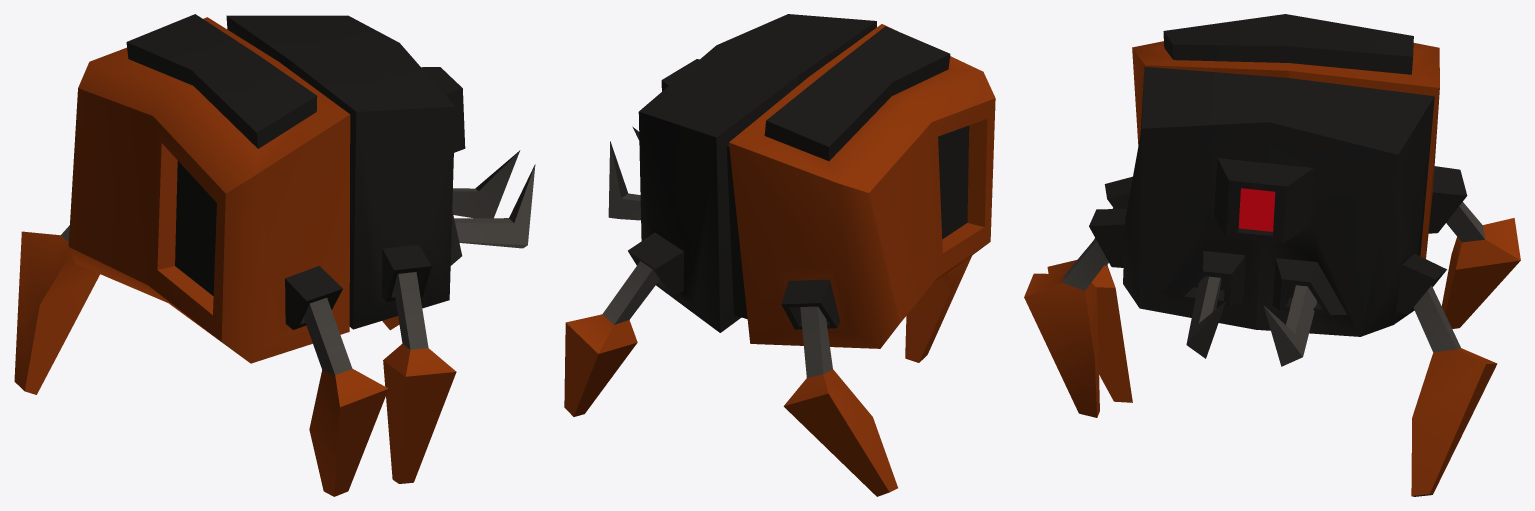
The model's file is SPIDBOT11.obj.
The picture shows the model from 3 angles, left to right: view 1: azimuth 30°, elevation 25°; view 2: azimuth 150°, elevation 25°; view 3: azimuth 270°, elevation 25°; orthographic projection. The views are drawn at different scales.
Visible parts, largest first — view 1: Cube.001; view 2: Cube.001; view 3: Cube.001.
Part boxes in pixels (x1,y1,x2,y2): Cube.001: (14,14,535,496); Cube.001: (564,14,995,496); Cube.001: (1024,14,1520,496).
Size of what is drawn, in the model's own units: 3.15 by 2.81 by 3.51.
